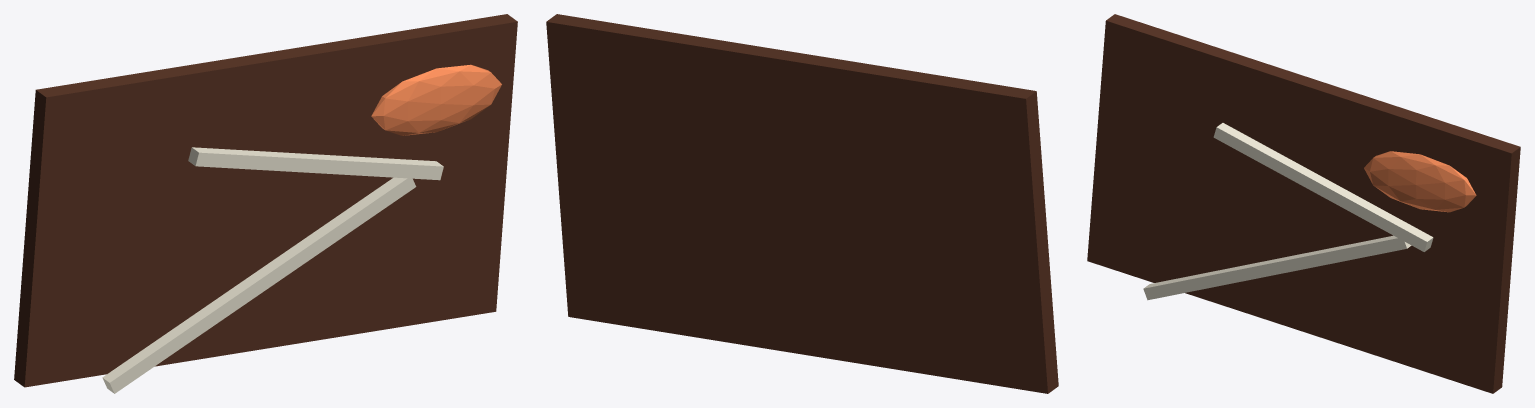
Rendered from 02_weathering_wear_overlay_2.glb.
3 renders of one model, left to right at view 1: azimuth 30°, elevation 25°; view 2: azimuth 150°, elevation 25°; view 3: azimuth 330°, elevation 25°, orthographic. The views are drawn at different scales.
Parts seen in each view (by area): view 1: wear_plate, scratch_a, rust_or_moss_spot, scratch_b; view 2: wear_plate; view 3: wear_plate, rust_or_moss_spot, scratch_b, scratch_a.
Boxes of the visible parts, bbox=[...] form: wear_plate: bbox=[14, 14, 517, 387]; scratch_a: bbox=[102, 177, 416, 393]; rust_or_moss_spot: bbox=[371, 64, 501, 135]; scratch_b: bbox=[188, 147, 443, 180]; wear_plate: bbox=[546, 14, 1058, 393]; wear_plate: bbox=[1087, 14, 1520, 393]; rust_or_moss_spot: bbox=[1364, 151, 1476, 212]; scratch_b: bbox=[1213, 123, 1433, 251]; scratch_a: bbox=[1143, 235, 1411, 300].
Bounding box in the file's own units: 1.36 × 0.8508 × 0.134.
